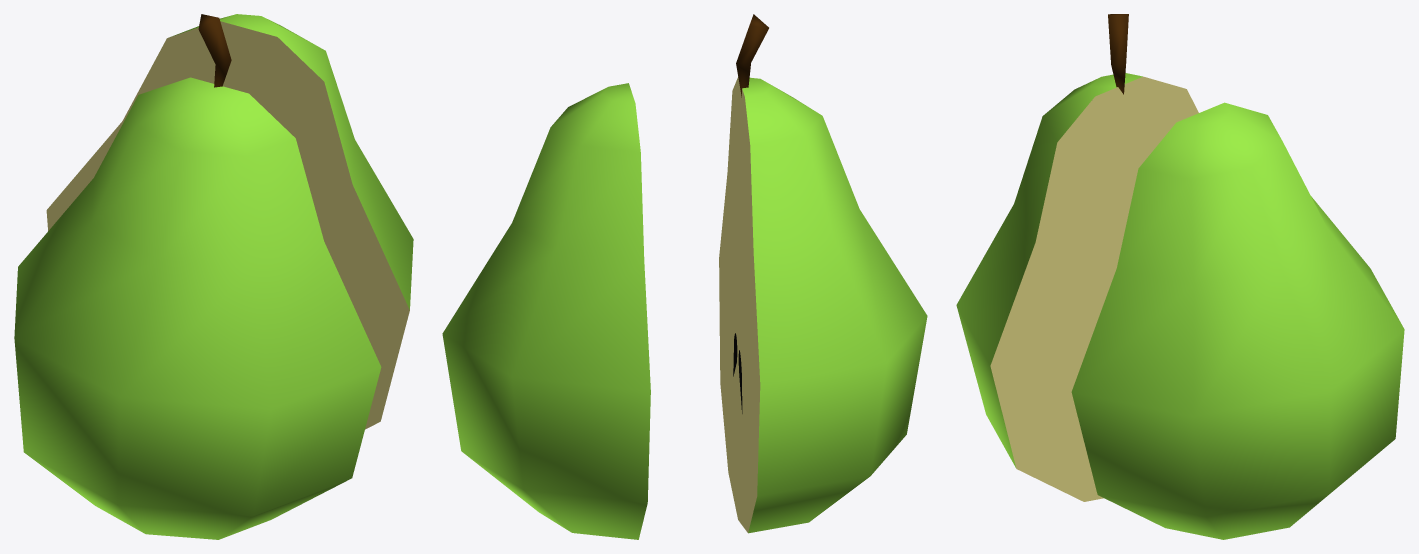
Rendered from lul.pear.fbx.
3 renders of one model, left to right at view 1: azimuth 30°, elevation 25°; view 2: azimuth 150°, elevation 25°; view 3: azimuth 270°, elevation 25°, orthographic. The views are drawn at different scales.
Parts seen in each view (by area): view 1: pear.003, pear.002; view 2: pear.003, pear.002; view 3: pear.002, pear.003.
Part boxes in pixels (<box>): pear.003: <box>14,14,381,539</box>; pear.002: <box>46,14,413,429</box>; pear.003: <box>719,14,927,533</box>; pear.002: <box>442,83,650,539</box>; pear.002: <box>1071,102,1404,539</box>; pear.003: <box>956,14,1198,501</box>.
Bounding box in the file's own units: 150 × 178 × 151.
